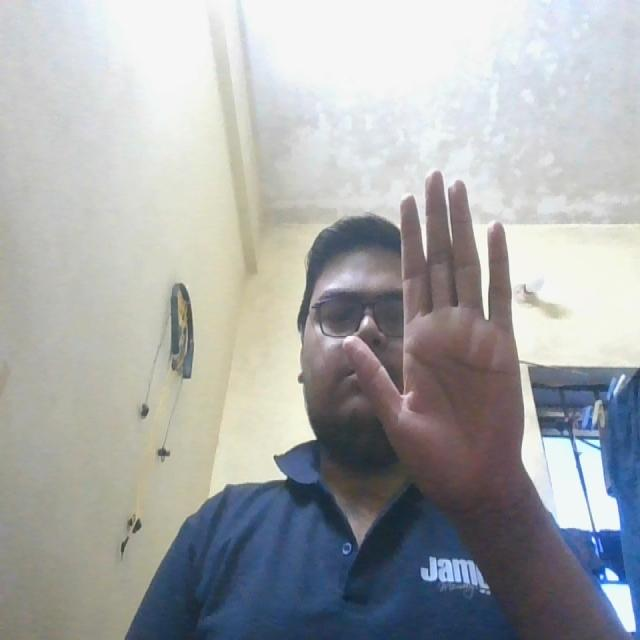Hello: (334, 150, 544, 510)
